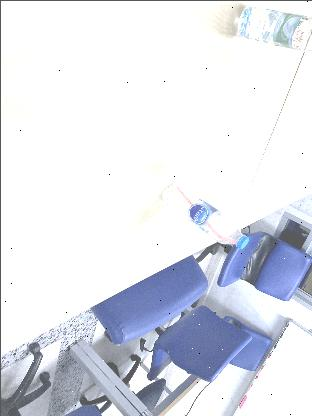Plastic Bottle: (159, 181, 249, 251), (234, 3, 312, 51)
